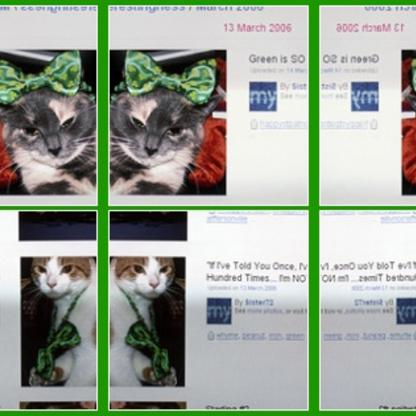Cat: (109, 47, 223, 193), (0, 47, 96, 194), (104, 254, 186, 387), (18, 254, 100, 387)
